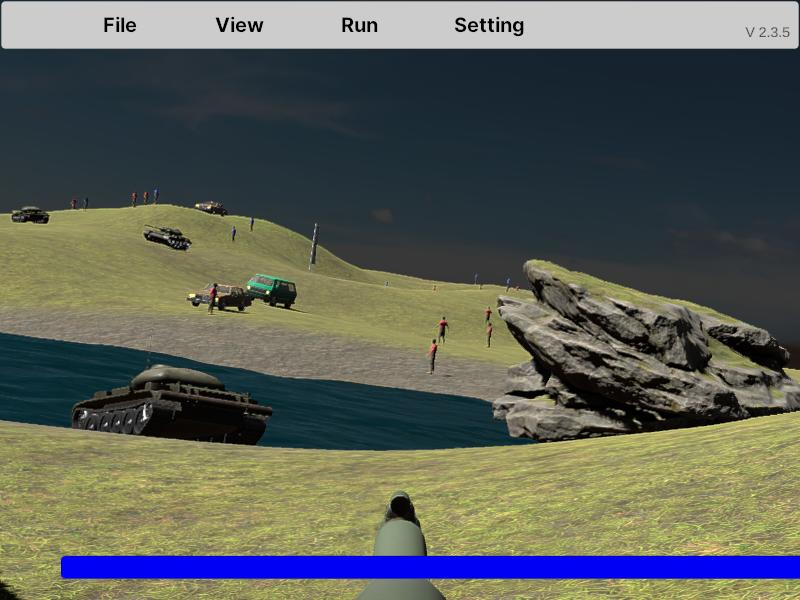Tank: (72, 363, 274, 448)
car: (186, 283, 252, 312), (187, 283, 251, 312), (247, 274, 297, 308)
